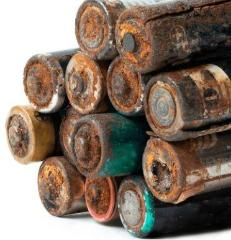electronic: (16, 30, 78, 120)
